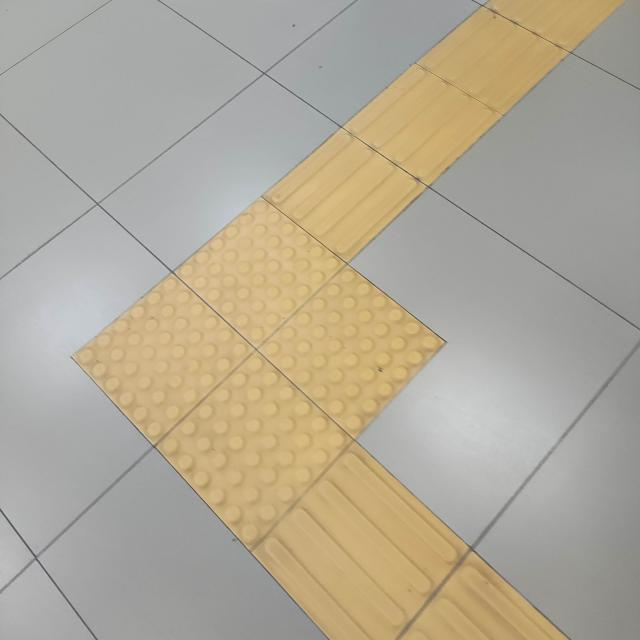kanan: (35, 132, 573, 596)
